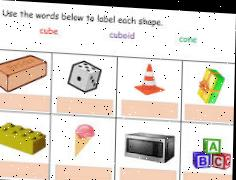cube: (192, 148, 212, 167), (213, 150, 233, 167), (205, 136, 222, 150)
